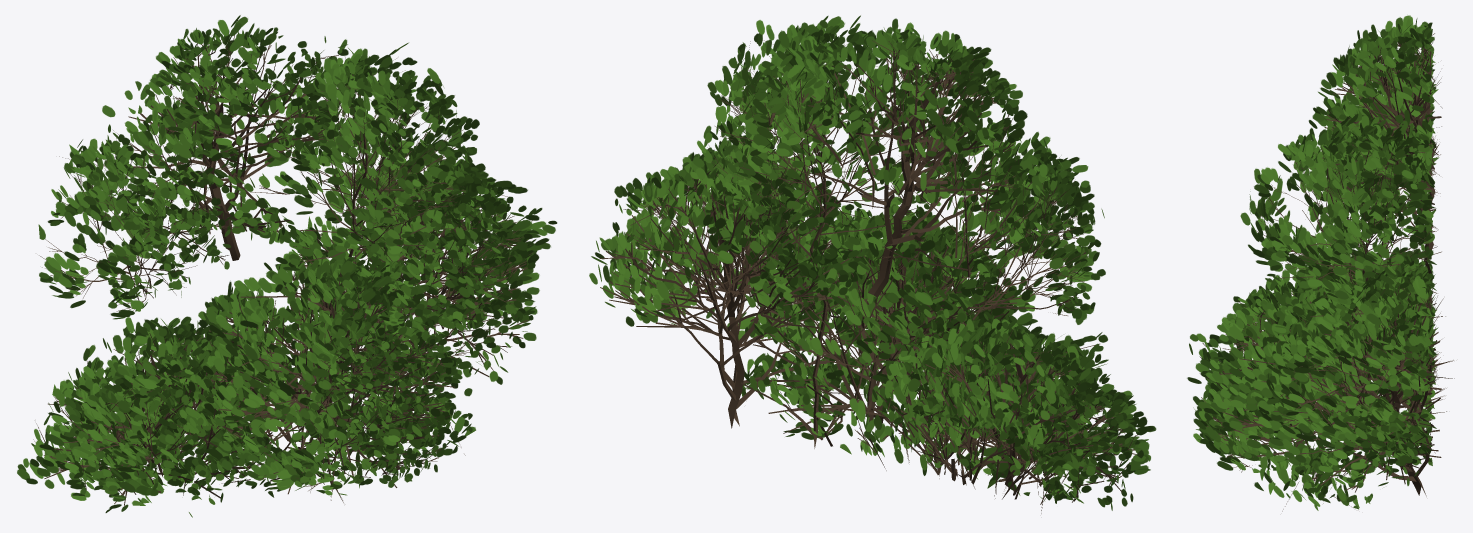
3 renders of one model, left to right at view 1: azimuth 30°, elevation 25°; view 2: azimuth 150°, elevation 25°; view 3: azimuth 270°, elevation 25°, orthographic. The views are drawn at different scales.
Visible parts, largest first — view 1: oak 01.001_trunk_Mat.001_0.476; view 2: oak 01.001_trunk_Mat.001_0.476; view 3: oak 01.001_trunk_Mat.001_0.476.
Part boxes in pixels (x1,y1,x2,y2): oak 01.001_trunk_Mat.001_0.476: (17, 15, 557, 517); oak 01.001_trunk_Mat.001_0.476: (589, 15, 1156, 513); oak 01.001_trunk_Mat.001_0.476: (1187, 15, 1454, 511).
Bounding box in the file's own units: 6.17 × 4.95 × 2.94.
Materials: 2 (1 with a texture image).
